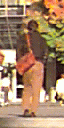person: (10, 15, 48, 118)
